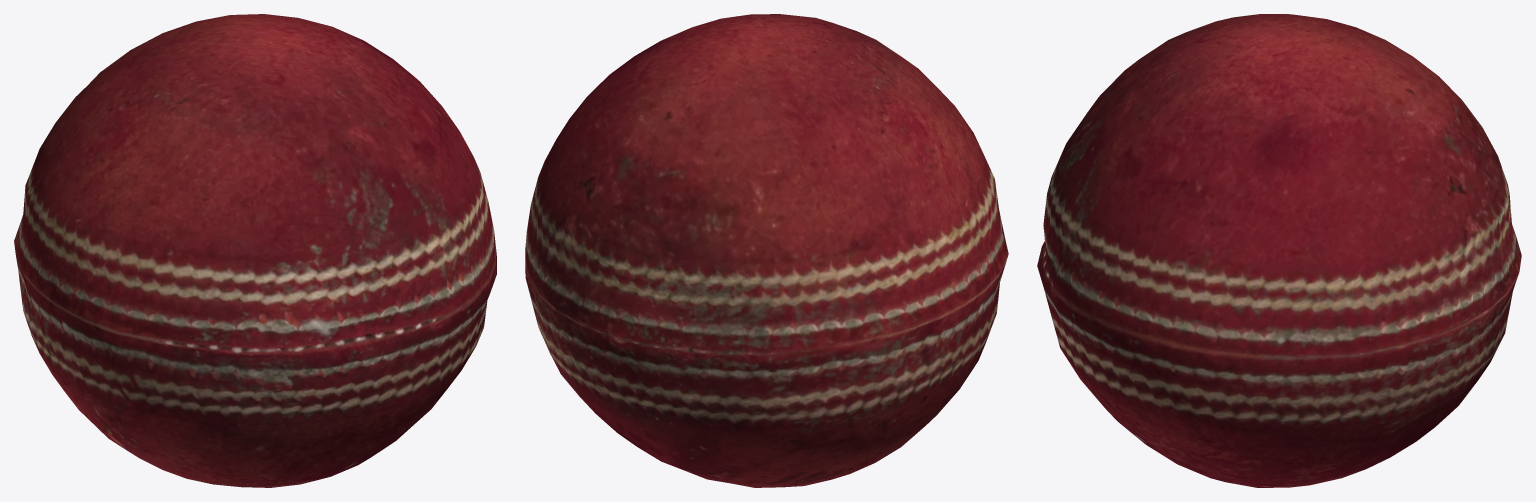
The model's file is realcricketball.glb.
The picture shows the model from 3 angles, left to right: view 1: azimuth 30°, elevation 25°; view 2: azimuth 150°, elevation 25°; view 3: azimuth 270°, elevation 25°; orthographic projection.
Visible parts, largest first — view 1: Cricket Ball Low_0; view 2: Cricket Ball Low_0; view 3: Cricket Ball Low_0.
Boxes of the visible parts, x1,y1,x2,y2 form: Cricket Ball Low_0: [14, 14, 496, 487]; Cricket Ball Low_0: [525, 14, 1008, 487]; Cricket Ball Low_0: [1037, 14, 1521, 487].
Bounding box in the file's own units: 0.0734 × 0.072 × 0.0737.
1 material, 1 textured.
